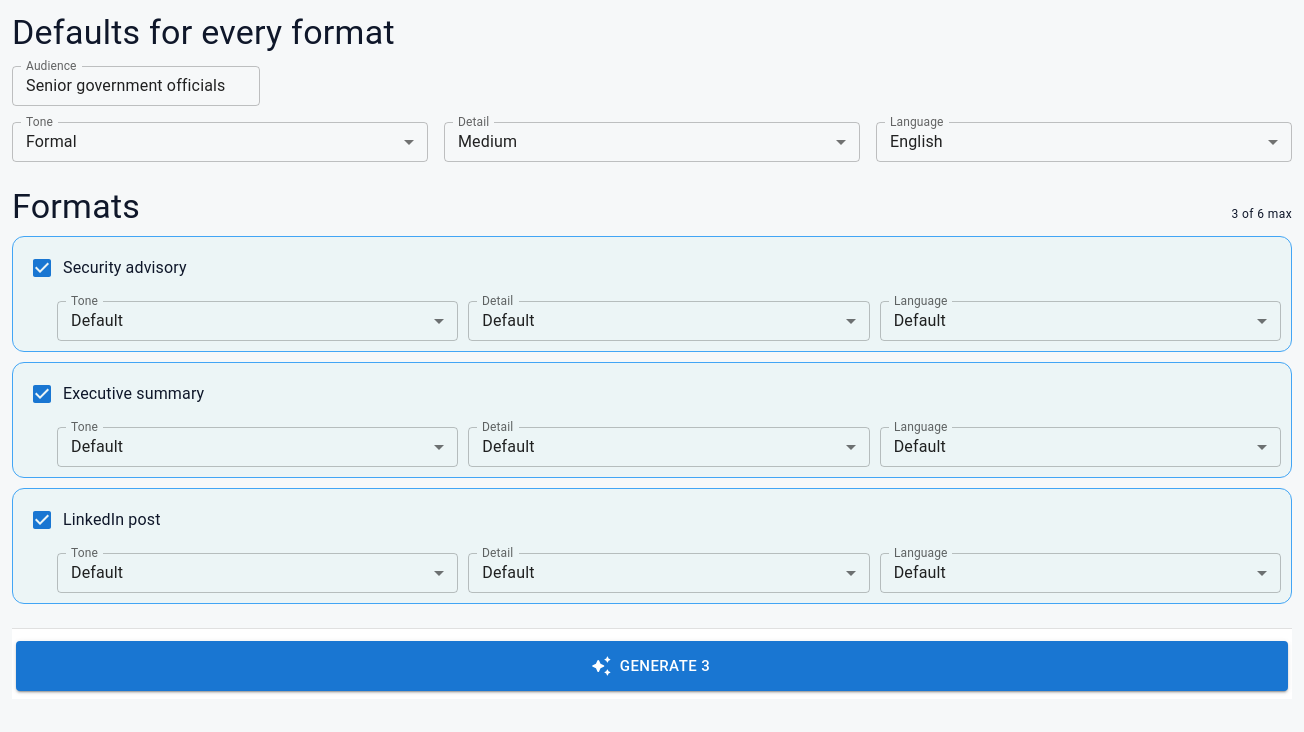
Scenario: ConfigPanel (SRS §10.2) › disables Generate when no format is selected (FR-13)
Click the checkbox labelled "Security advisory" at x=108, y=268, box [30, 256, 187, 280]
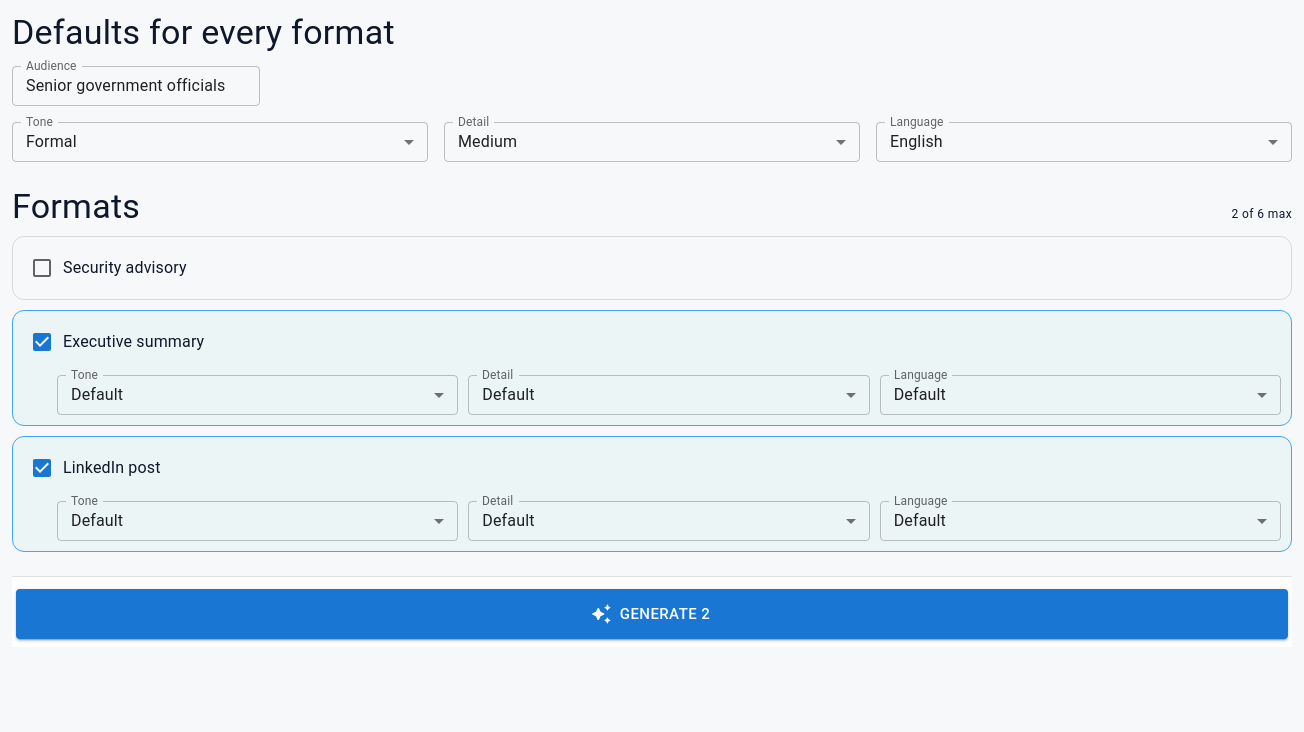
Click the checkbox labelled "Executive summary" at x=117, y=342, box [30, 330, 204, 354]
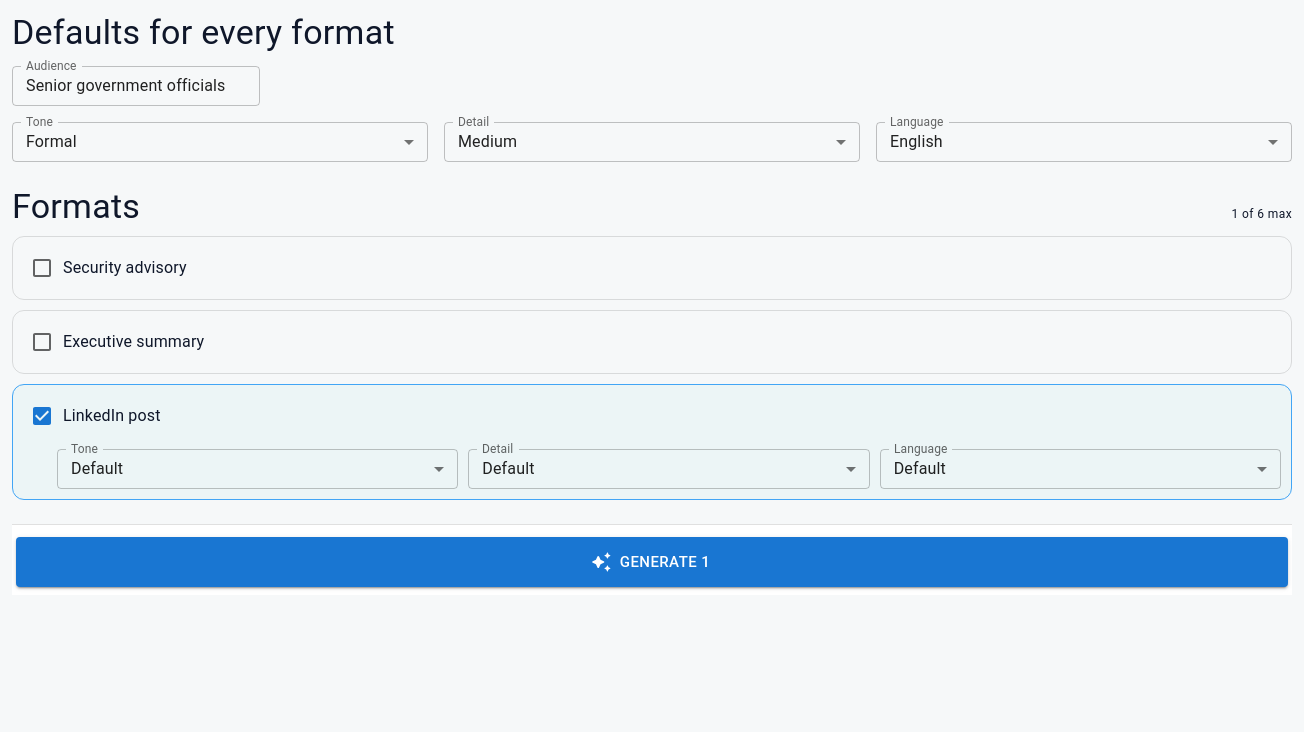
Click the checkbox labelled "LinkedIn post" at x=95, y=416, box [30, 404, 160, 428]
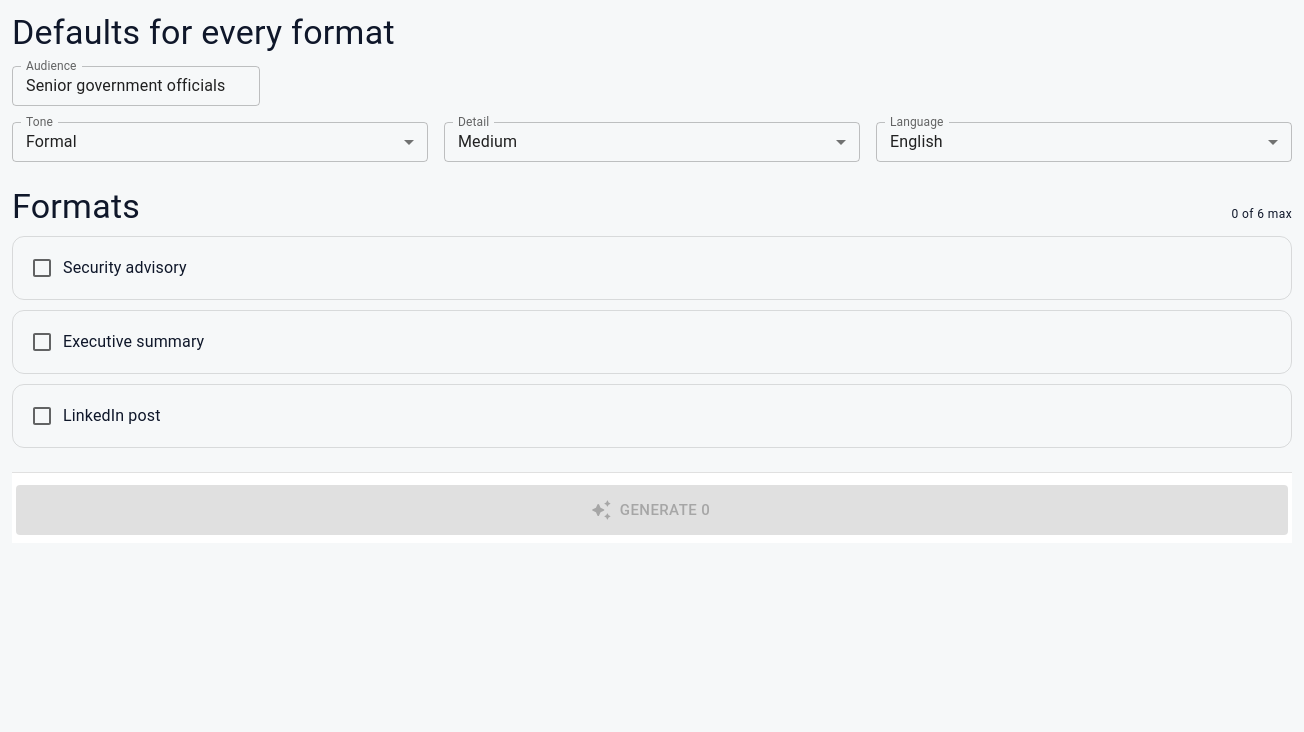
Expected: the button "Generate 0" is disabled, [16, 485, 1288, 535]
